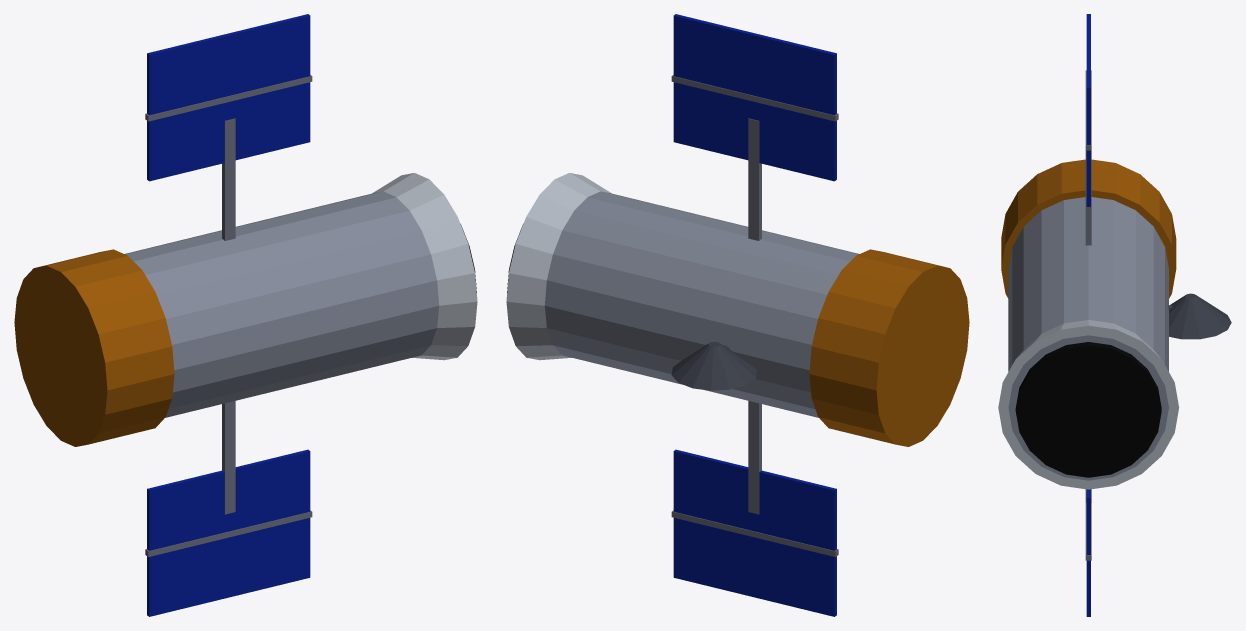
File: telescope.glb
3 renders of one model, left to right at view 1: azimuth 30°, elevation 25°; view 2: azimuth 150°, elevation 25°; view 3: azimuth 270°, elevation 25°, orthographic. The views are drawn at different scales.
Visible parts, largest first — view 1: telescope; view 2: telescope; view 3: telescope.
Boxes of the visible parts, <box> form: telescope: <box>14,14,477,616</box>; telescope: <box>506,14,969,616</box>; telescope: <box>998,14,1231,616</box>.
Size of the model in its own units: 1.28 by 1.82 by 0.7274.
